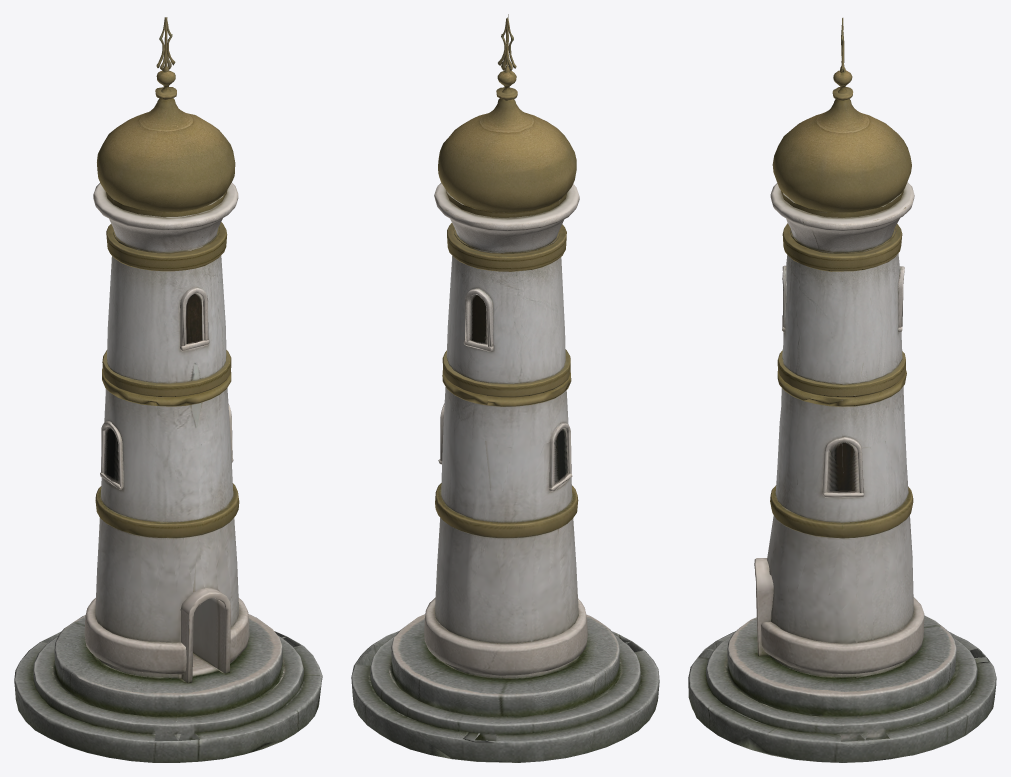
File: ivory_tower.glb
3 renders of one model, left to right at view 1: azimuth 30°, elevation 25°; view 2: azimuth 150°, elevation 25°; view 3: azimuth 270°, elevation 25°, orthographic.
Size of the model in its own units: 0.4099 by 0.9997 by 0.4086.
Materials: 1 (1 with a texture image).
